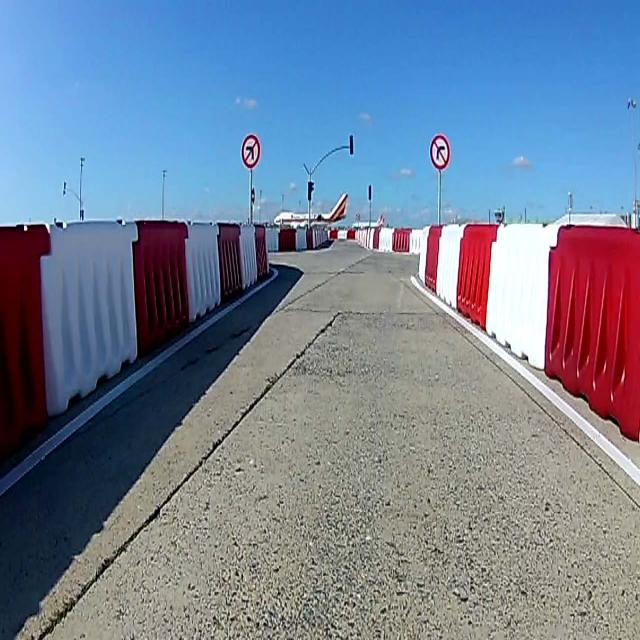sagadonulmez: (431, 133, 449, 170)
soladonulmez: (240, 134, 262, 169)
